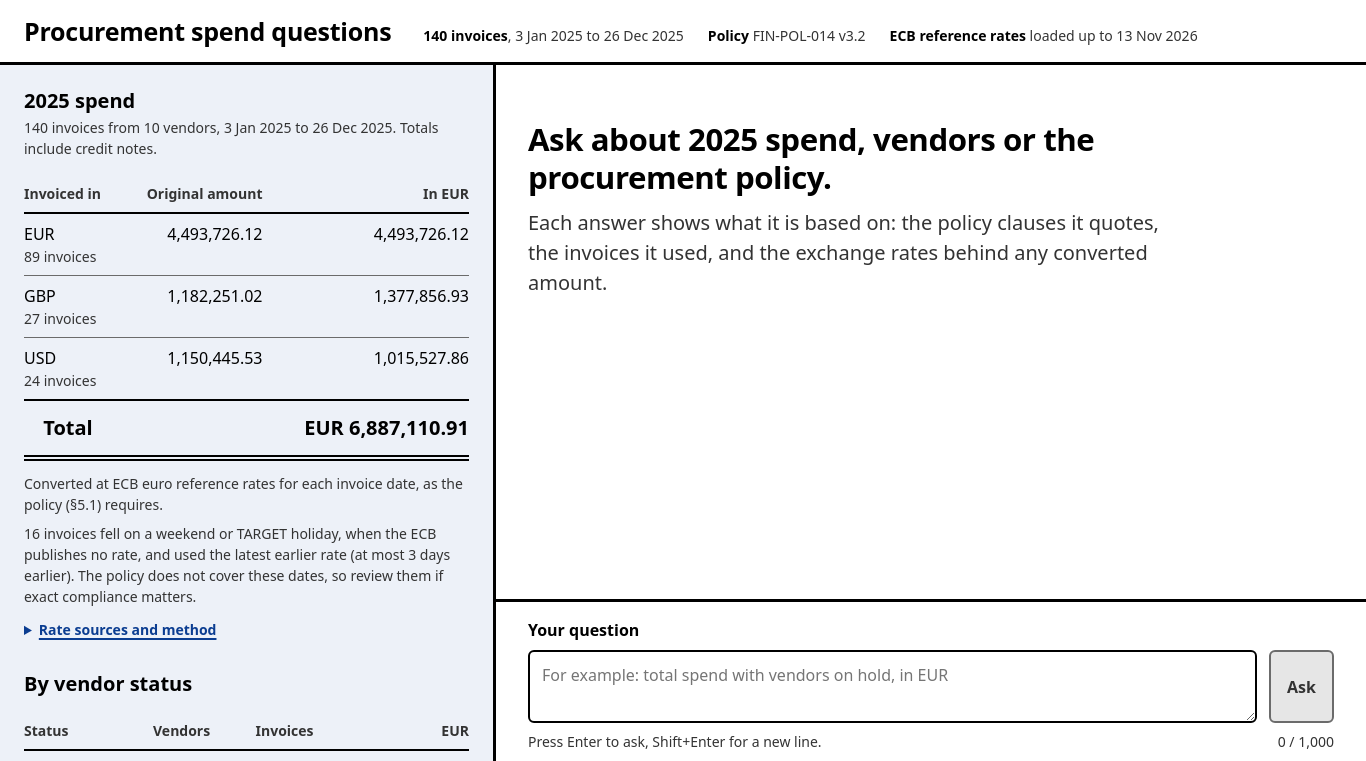
asking questions › explains a busy server
In the text box labelled "Your question": (893, 687) [528,650,1257,723], type "Who approves EUR 60,000?"
Then press Enter
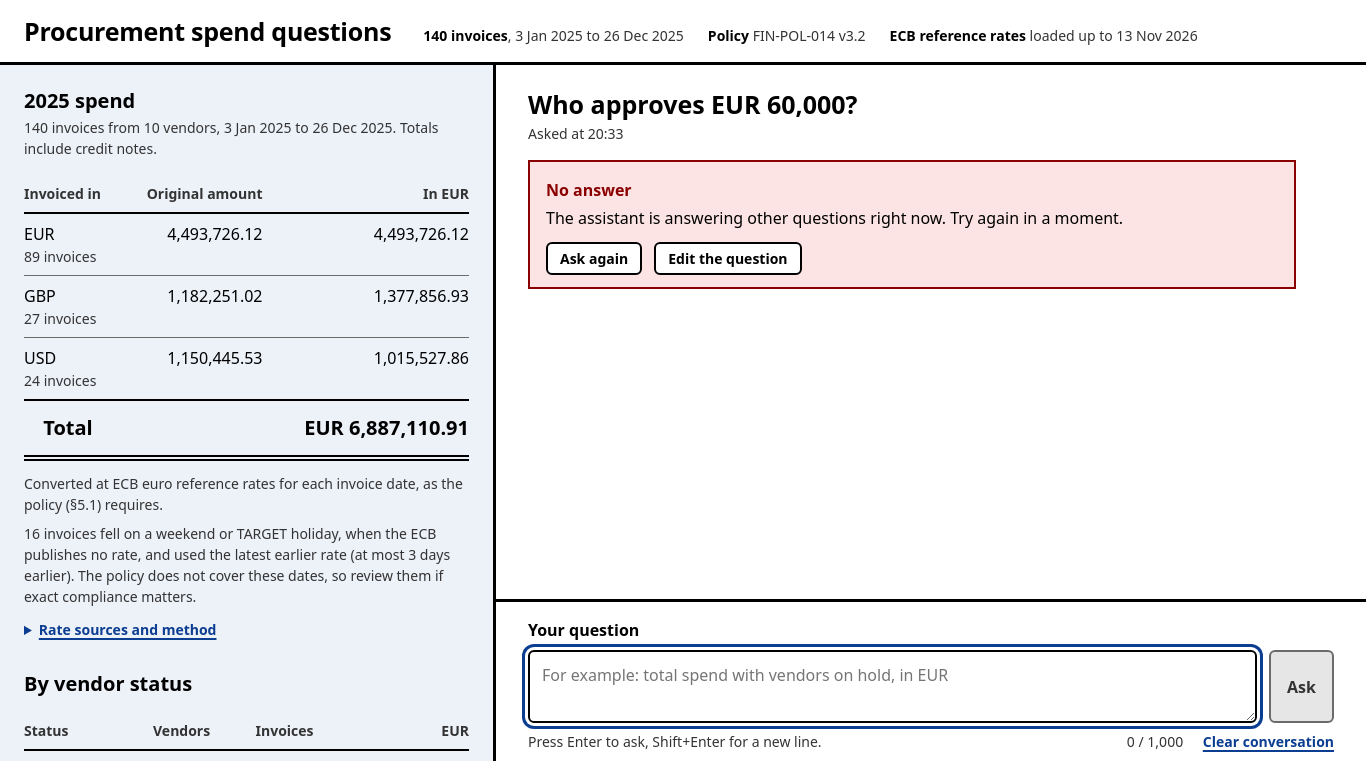
Expected: the text "answering other questions right now" is shown, [546,207,1123,229]
